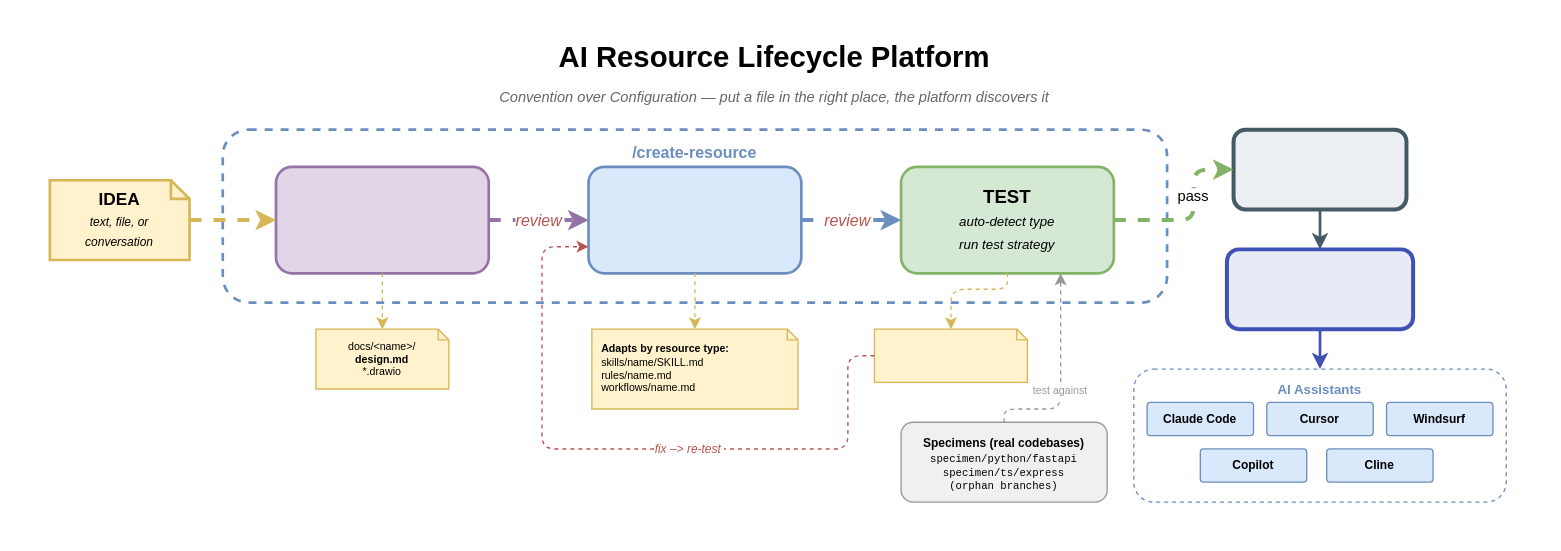
Image size: 1561x551. Some labels were removed from this diagram. Each missing label, with the centre of its shape:
DELIVER forge sync @crucibledx/forge-cli: point 1319,289
DESIGN clarify · classify design.md · diagrams: point 381,219
DEVELOP scaffold · implement step-by-step with user: point 694,219
RELEASE version bump CHANGELOG · git tag: point 1319,169
Test Report pass / fail + details: point 950,355
